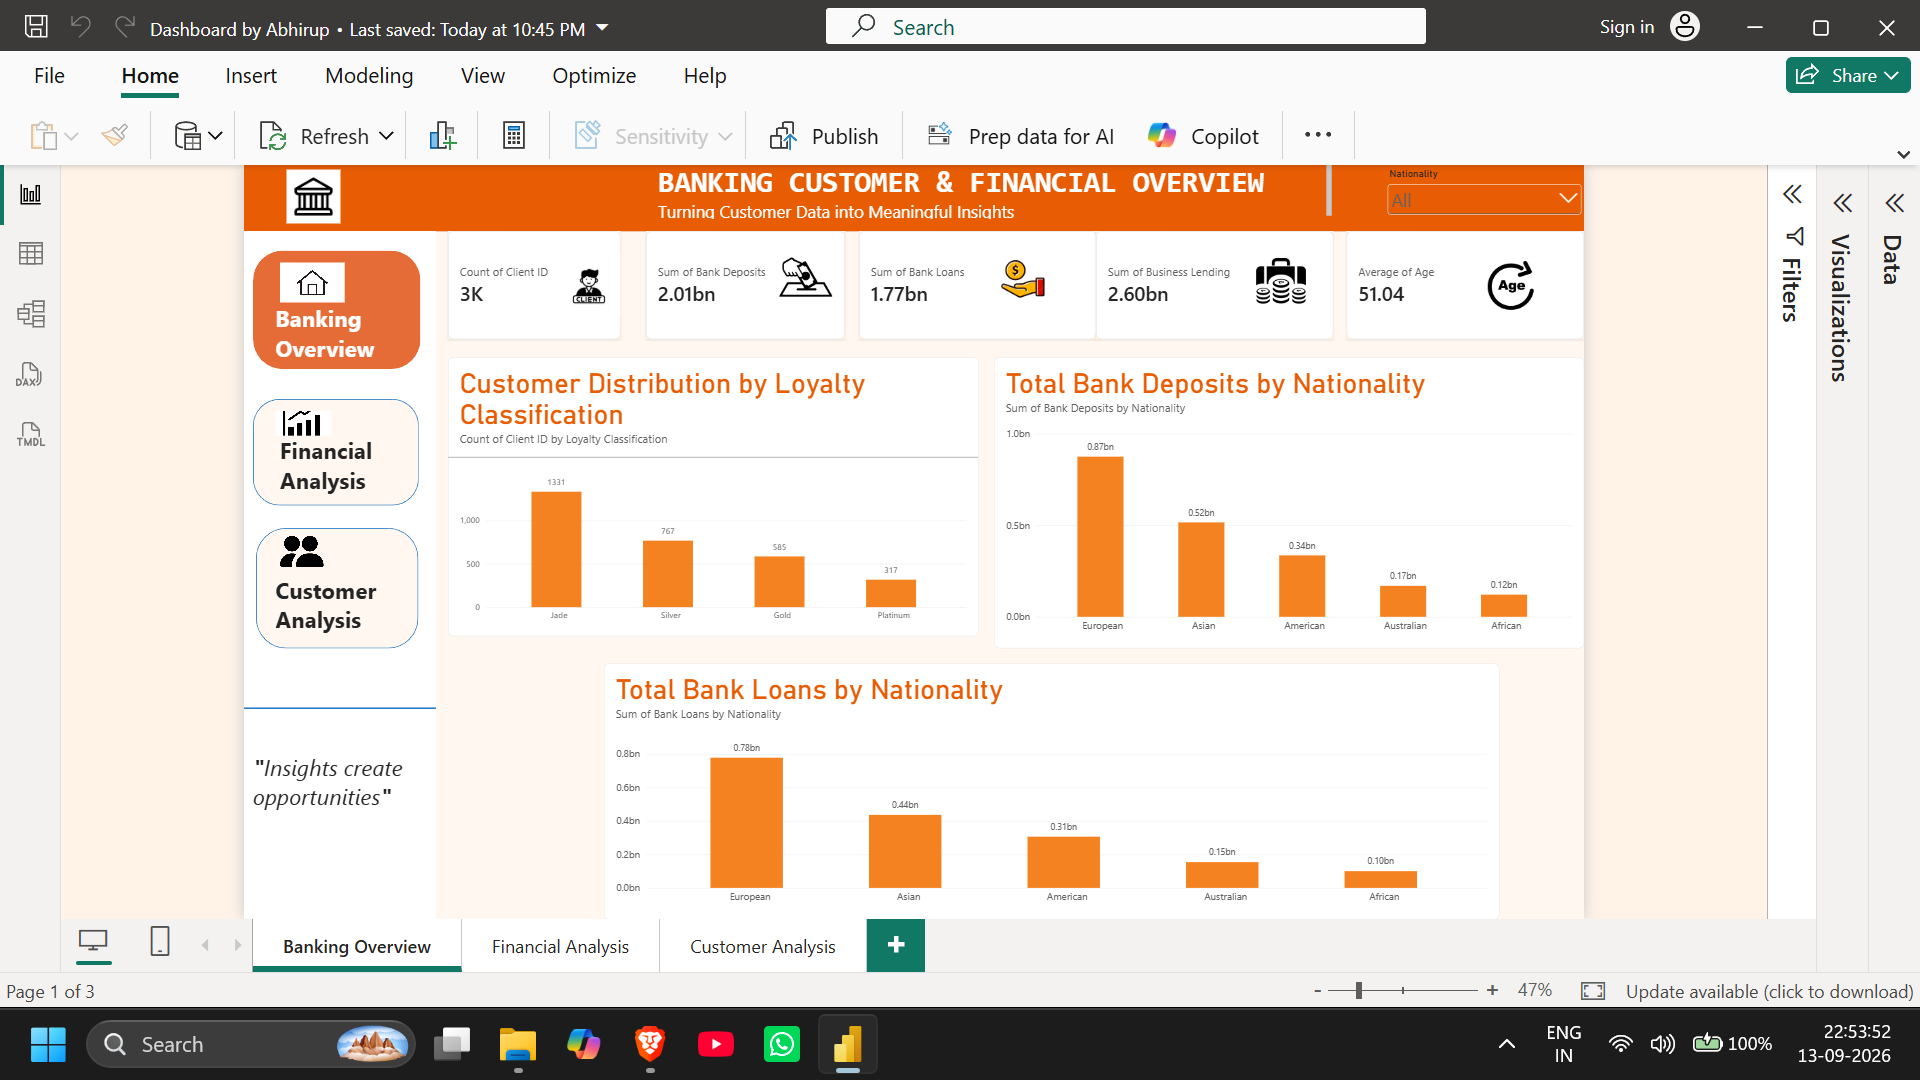

What the dashboard file says about the page in this screenshot:
{"tool":"powerbi","page":{"name":"Banking Overview","canvas":[1920,1080],"ordinal":0},"visuals":[{"type":"shape","box":[0,0,1920,95],"z":0},{"type":"clusteredColumnChart","title":"Customer Distribution by Loyalty Classification","fields":{"Category":["Banking.Loyalty Classification"],"Y":["CountNonNull(Banking.Client ID)"]},"box":[292.5,275,760,400],"z":1000},{"type":"clusteredColumnChart","title":"Total Bank Deposits by Nationality","fields":{"Category":["Banking.Nationality"],"Y":["Sum(Banking.Bank Deposits)"]},"box":[1075,275,845,417.5],"z":2000},{"type":"cardVisual","fields":{"Data":["CountNonNull(Banking.Client ID)"]},"box":[292.5,95,247.5,155],"z":3000},{"type":"cardVisual","fields":{"Data":["Sum(Banking.Bank Deposits)"]},"box":[575,95,285,155],"z":4000},{"type":"cardVisual","fields":{"Data":["Sum(Banking.Bank Loans)"]},"box":[880,95,340,155],"z":5000},{"type":"cardVisual","fields":{"Data":["Sum(Banking.Business Lending)"]},"box":[1220,95,340,155],"z":6000},{"type":"cardVisual","fields":{"Data":["Avg(Banking.Age)"]},"box":[1580,95,340,155],"z":7000},{"type":"clusteredColumnChart","title":"Total Bank Loans by Nationality","fields":{"Category":["Banking.Nationality"],"Y":["Sum(Banking.Bank Loans)"]},"box":[515,712.5,1282.5,367.5],"z":8000},{"type":"slicer","fields":{"Values":["Banking.Nationality"]},"box":[1632.5,5,287.5,72.5],"z":9000},{"type":"textbox","box":[592.5,0,965,77.5],"z":10000},{"type":"shape","box":[0,95,275,985],"z":11000},{"type":"shape","box":[0,95,275,985],"z":12000},{"type":"shape","box":[12.5,122.5,240,170],"z":13000},{"type":"textbox","box":[45,197.5,177.5,95],"z":14000},{"type":"shape","box":[12.5,335,237.5,152.5],"z":15000},{"type":"textbox","box":[52.5,387.5,142.5,87.5],"z":16000},{"type":"shape","box":[17.5,520,232.5,172.5],"z":17000},{"type":"textbox","box":[45,587.5,160,90],"z":18000},{"type":"image","box":[52.5,140,92.5,57.5],"z":19000},{"type":"image","box":[45,352.5,80,35],"z":20000},{"type":"image","box":[52.5,520,62.5,67.5],"z":21000},{"type":"image","box":[32.5,7.5,135,77.5],"z":22000},{"type":"image","box":[767.5,125,75,72.5],"z":23000},{"type":"image","box":[1075,117.5,82.5,90],"z":24000},{"type":"image","box":[1432.5,132.5,105,65],"z":25000},{"type":"image","box":[1777.5,137.5,75,70],"z":26000},{"type":"image","box":[450,125,90,97.5],"z":27000},{"type":"shape","box":[0,745,275,65],"z":28000},{"type":"textbox","box":[12.5,840,222.5,147.5],"z":29000}]}

Visuals, with their boxes on the page's 1920x1080 design canvas (x1, y1, x2, y2). These are canvas units, not pixel positions in the 1920x1080 screenshot, which may show the page scaled, cropped or inside an application window:
shape: <bbox>0, 0, 1920, 95</bbox>
"Customer Distribution by Loyalty Classification" clusteredColumnChart: <bbox>292, 275, 1052, 675</bbox>
"Total Bank Deposits by Nationality" clusteredColumnChart: <bbox>1075, 275, 1920, 692</bbox>
cardVisual - CountNonNull(Banking.Client ID): <bbox>292, 95, 540, 250</bbox>
cardVisual - Sum(Banking.Bank Deposits): <bbox>575, 95, 860, 250</bbox>
cardVisual - Sum(Banking.Bank Loans): <bbox>880, 95, 1220, 250</bbox>
cardVisual - Sum(Banking.Business Lending): <bbox>1220, 95, 1560, 250</bbox>
cardVisual - Avg(Banking.Age): <bbox>1580, 95, 1920, 250</bbox>
"Total Bank Loans by Nationality" clusteredColumnChart: <bbox>515, 712, 1798, 1080</bbox>
slicer - Banking.Nationality: <bbox>1632, 5, 1920, 78</bbox>
textbox: <bbox>592, 0, 1558, 78</bbox>
shape: <bbox>0, 95, 275, 1080</bbox>
shape: <bbox>0, 95, 275, 1080</bbox>
shape: <bbox>12, 122, 252, 292</bbox>
textbox: <bbox>45, 198, 222, 292</bbox>
shape: <bbox>12, 335, 250, 488</bbox>
textbox: <bbox>52, 388, 195, 475</bbox>
shape: <bbox>18, 520, 250, 692</bbox>
textbox: <bbox>45, 588, 205, 678</bbox>
image: <bbox>52, 140, 145, 198</bbox>
image: <bbox>45, 352, 125, 388</bbox>
image: <bbox>52, 520, 115, 588</bbox>
image: <bbox>32, 8, 168, 85</bbox>
image: <bbox>768, 125, 842, 198</bbox>
image: <bbox>1075, 118, 1158, 208</bbox>
image: <bbox>1432, 132, 1538, 198</bbox>
image: <bbox>1778, 138, 1852, 208</bbox>
image: <bbox>450, 125, 540, 222</bbox>
shape: <bbox>0, 745, 275, 810</bbox>
textbox: <bbox>12, 840, 235, 988</bbox>
